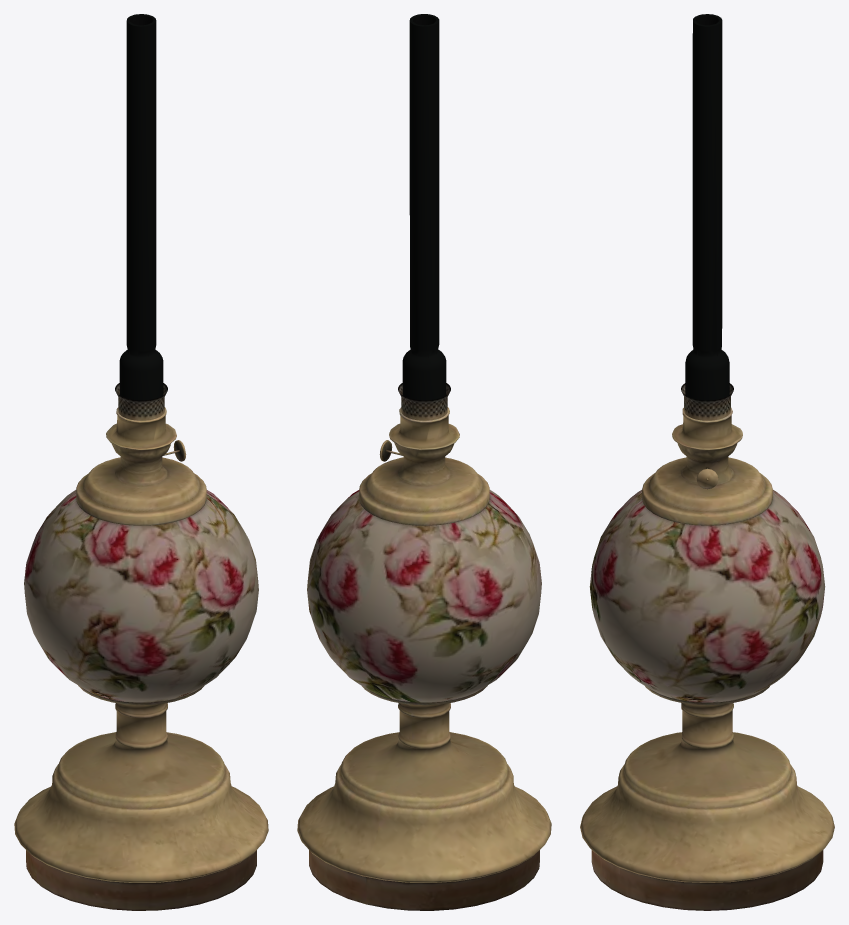
Rendered from oillamp.glb.
3 renders of one model, left to right at view 1: azimuth 30°, elevation 25°; view 2: azimuth 150°, elevation 25°; view 3: azimuth 270°, elevation 25°, orthographic.
Parts seen in each view (by area): view 1: vintage_oil_lamp, vintage_oil_lamp_glass; view 2: vintage_oil_lamp, vintage_oil_lamp_glass; view 3: vintage_oil_lamp, vintage_oil_lamp_glass.
Part boxes in pixels (<box>): vintage_oil_lamp: <box>14,407,268,910</box>; vintage_oil_lamp_glass: <box>115,14,167,420</box>; vintage_oil_lamp: <box>297,407,551,910</box>; vintage_oil_lamp_glass: <box>398,14,450,420</box>; vintage_oil_lamp: <box>580,407,834,910</box>; vintage_oil_lamp_glass: <box>681,14,733,420</box>.
Size of the model in its own units: 0.22 by 0.8016 by 0.22.
Materials: 3 (3 with a texture image).
